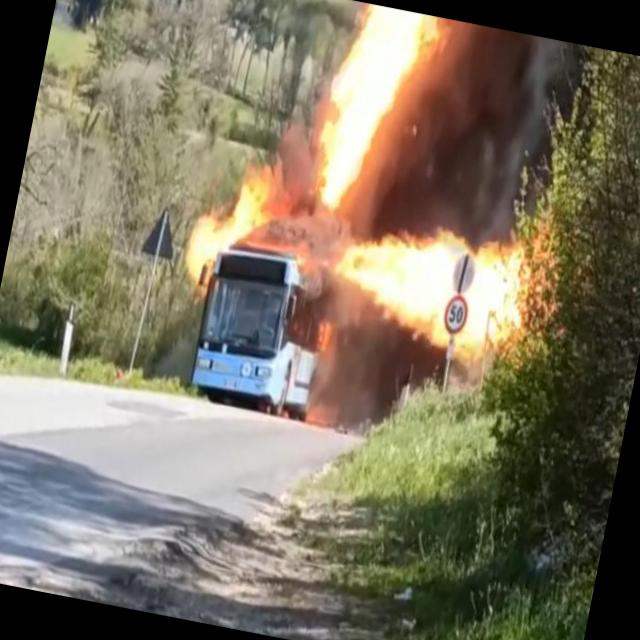Fire: (331, 218, 558, 360), (310, 0, 431, 214), (183, 165, 272, 291)
Smoke: (405, 43, 573, 246), (308, 292, 450, 458)
